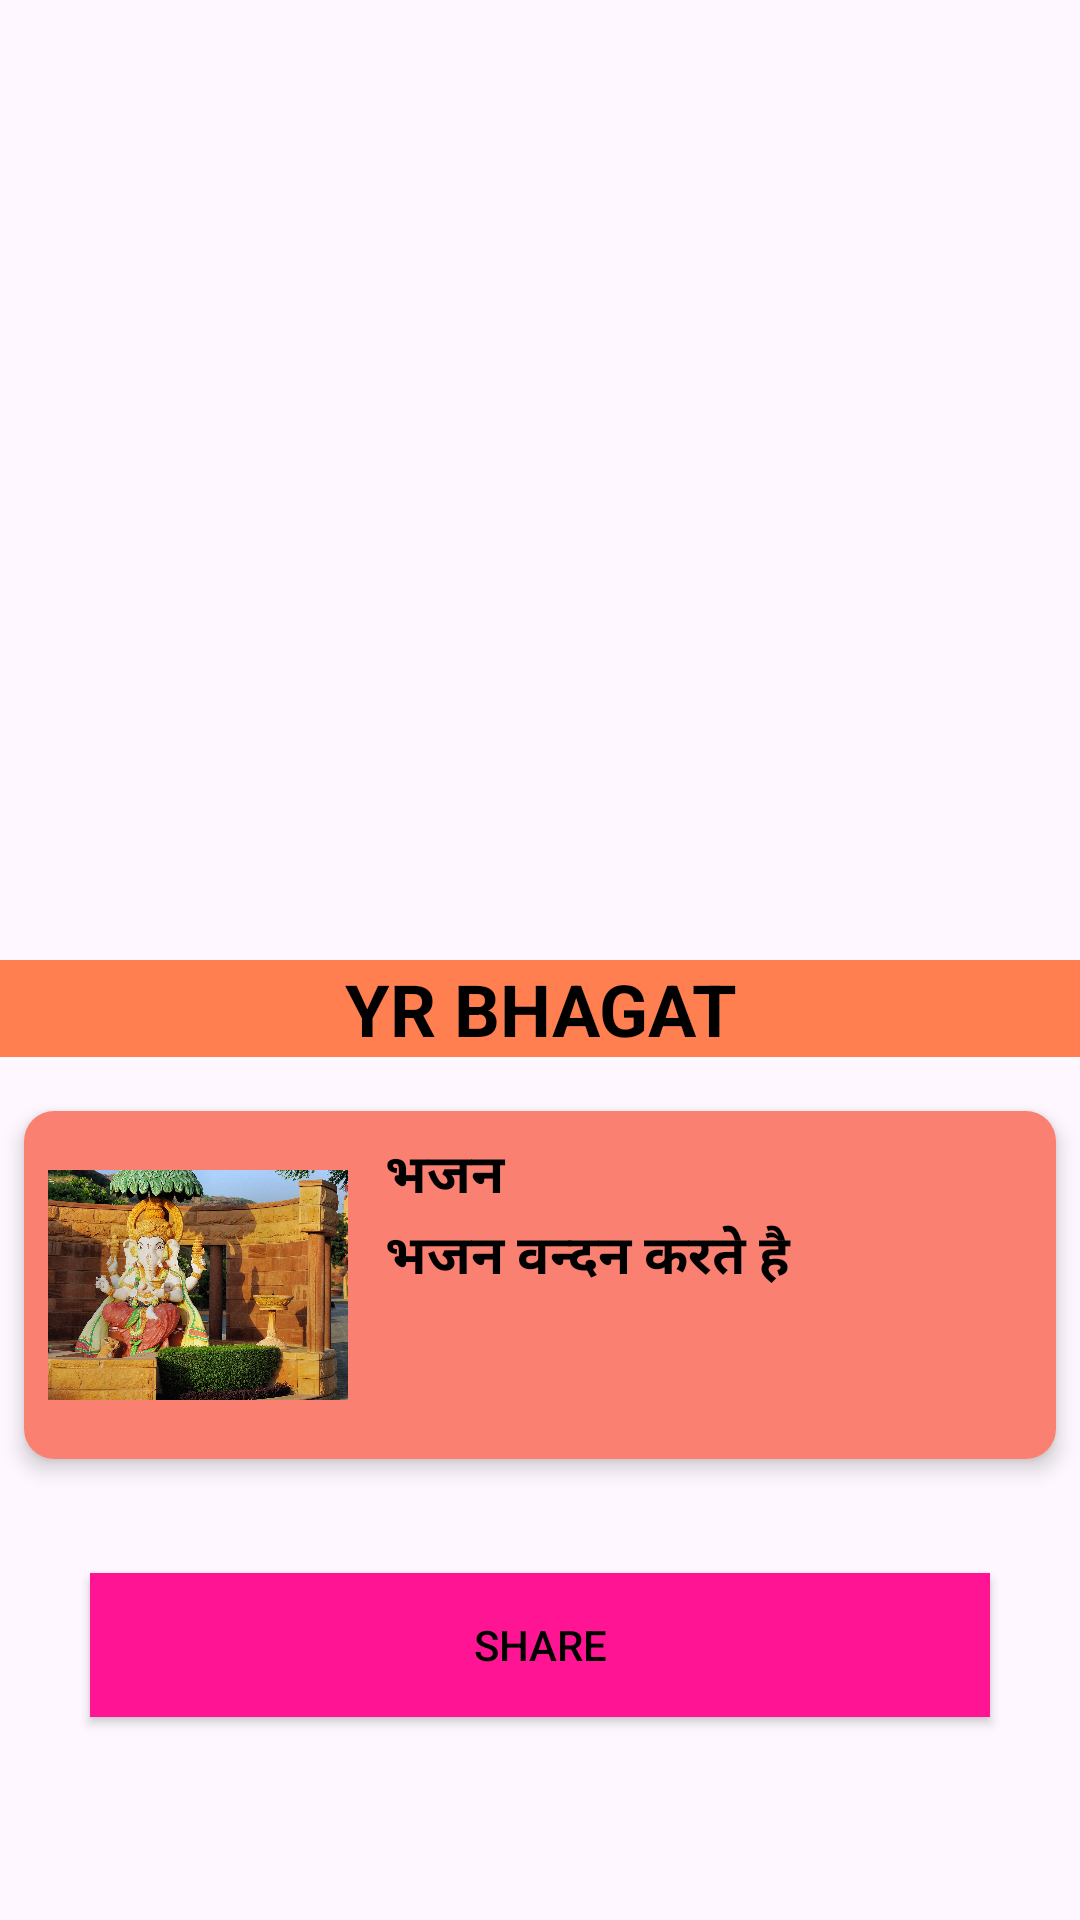

Where icons sit on this 1080x1920 app screen, as (x1, y1, x2, y2):
God: (48, 1170, 348, 1400)
